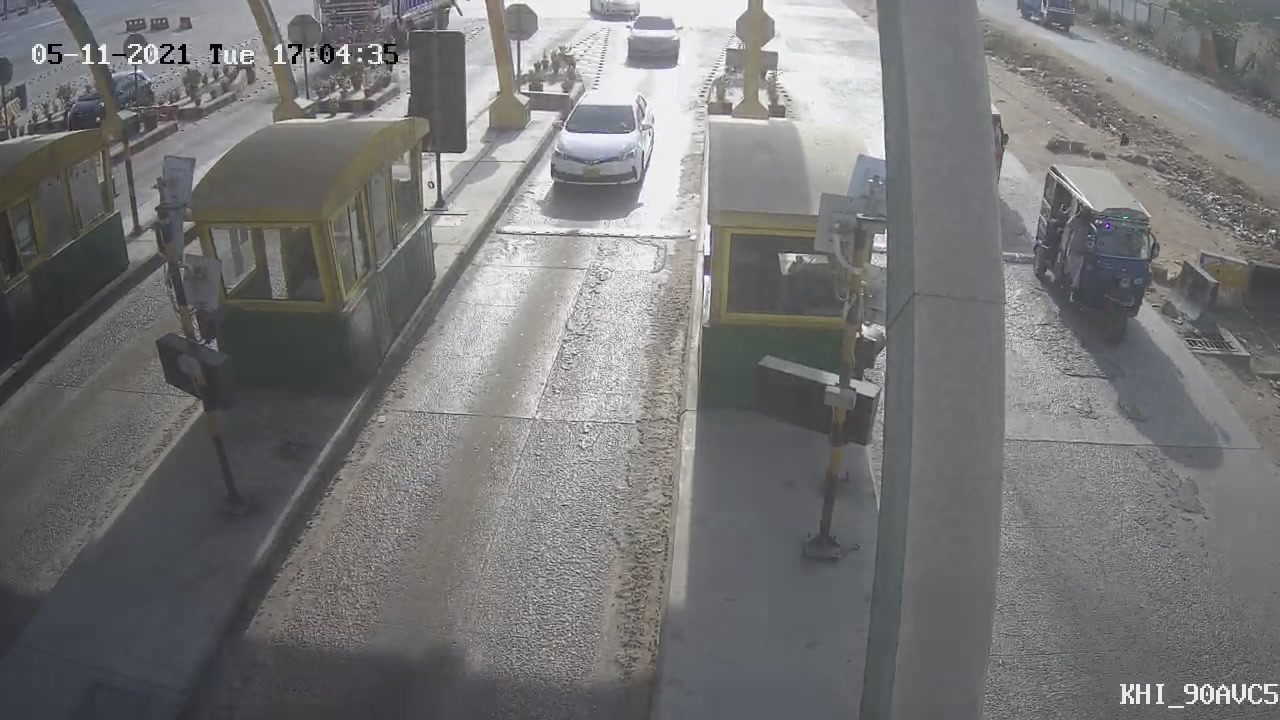F1: (531, 74, 674, 207)
